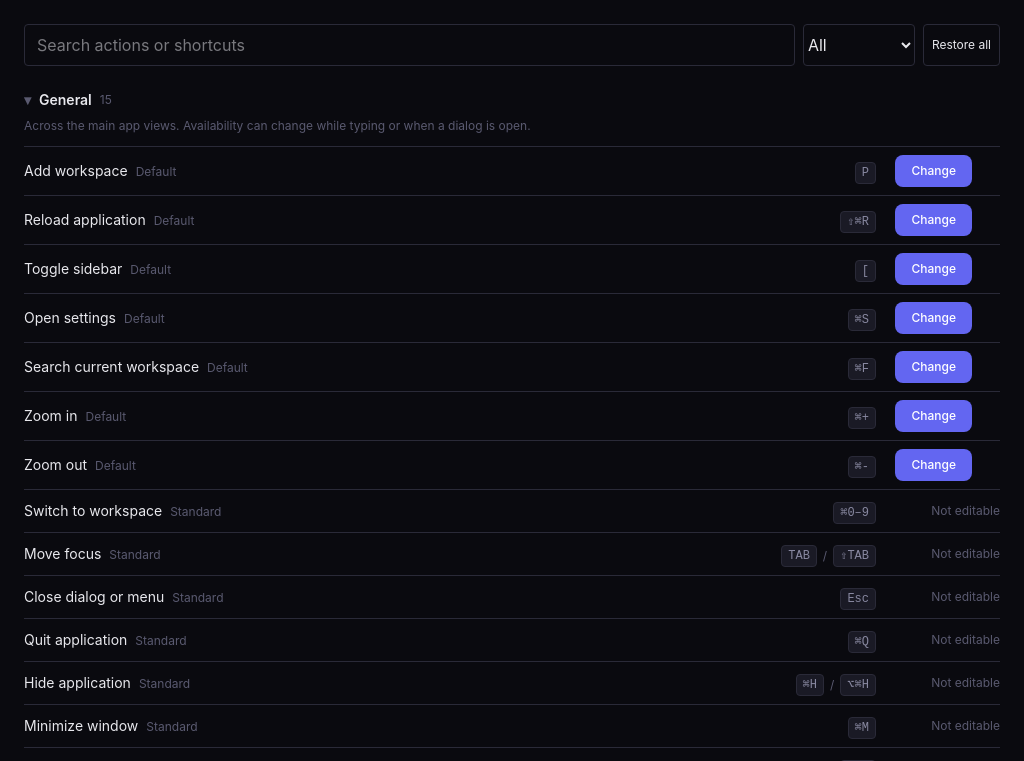
Test: shows the primary default while retaining alternatives in the editor
Expected: the text "⌘S" is shown, 848,309 -> 876,331
Expected: the text "⌃S" is not shown
Click the button with aria-label "Change Open settings (General)" at (934, 318), box 896,302 -> 972,334
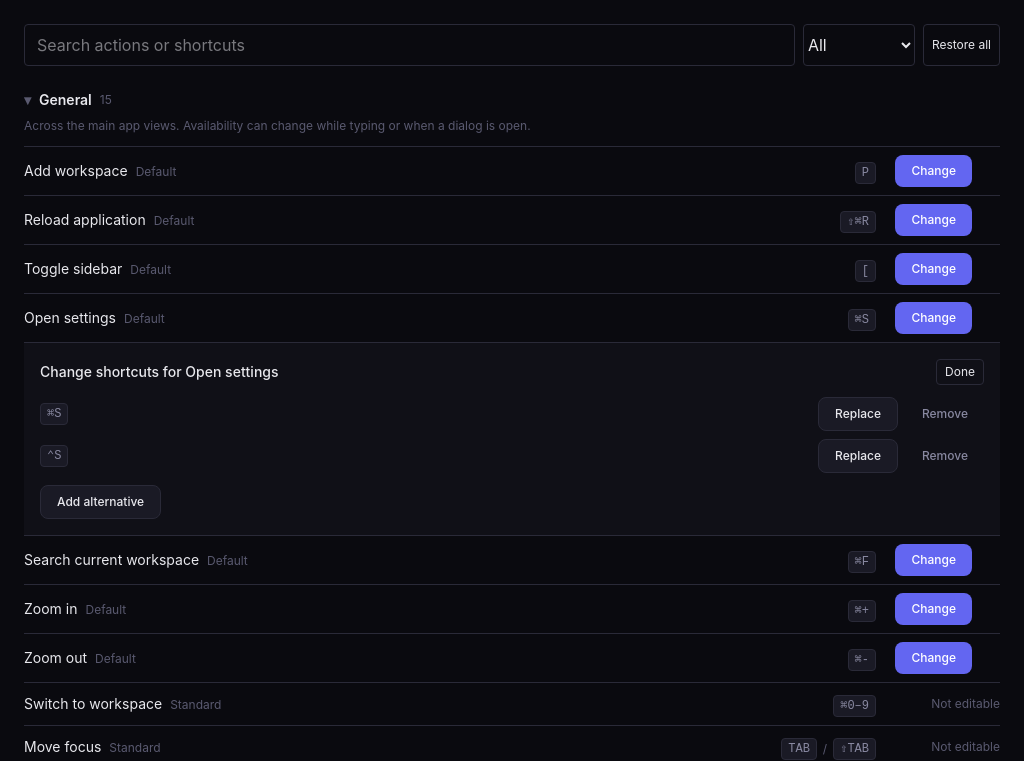
Now the button with aria-label "Replace ⌃S" is shown, box 818,439 -> 898,473
